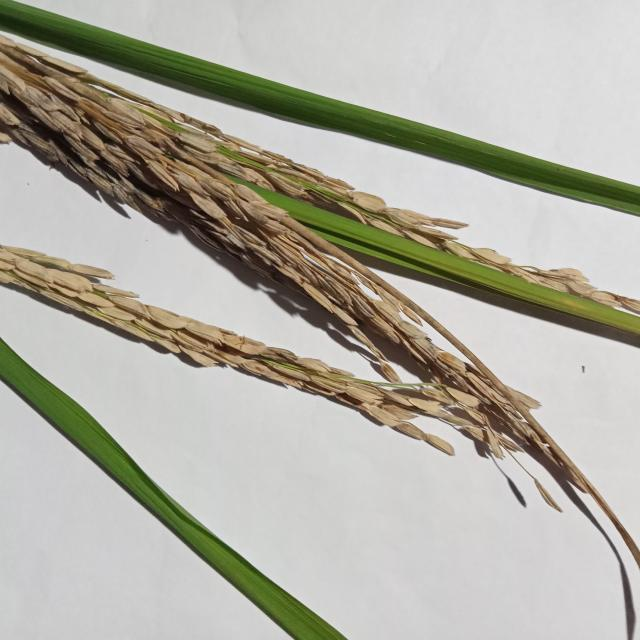Neck_Blast: (1, 45, 640, 548), (0, 238, 457, 432)
